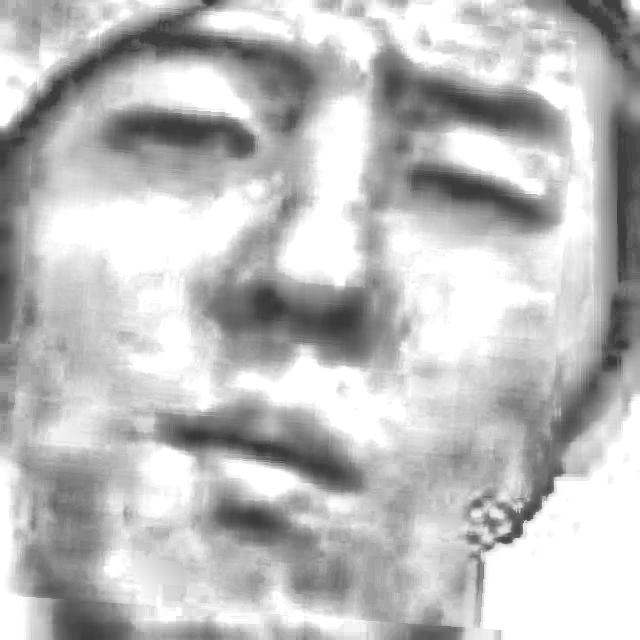angry: (11, 3, 568, 623)
